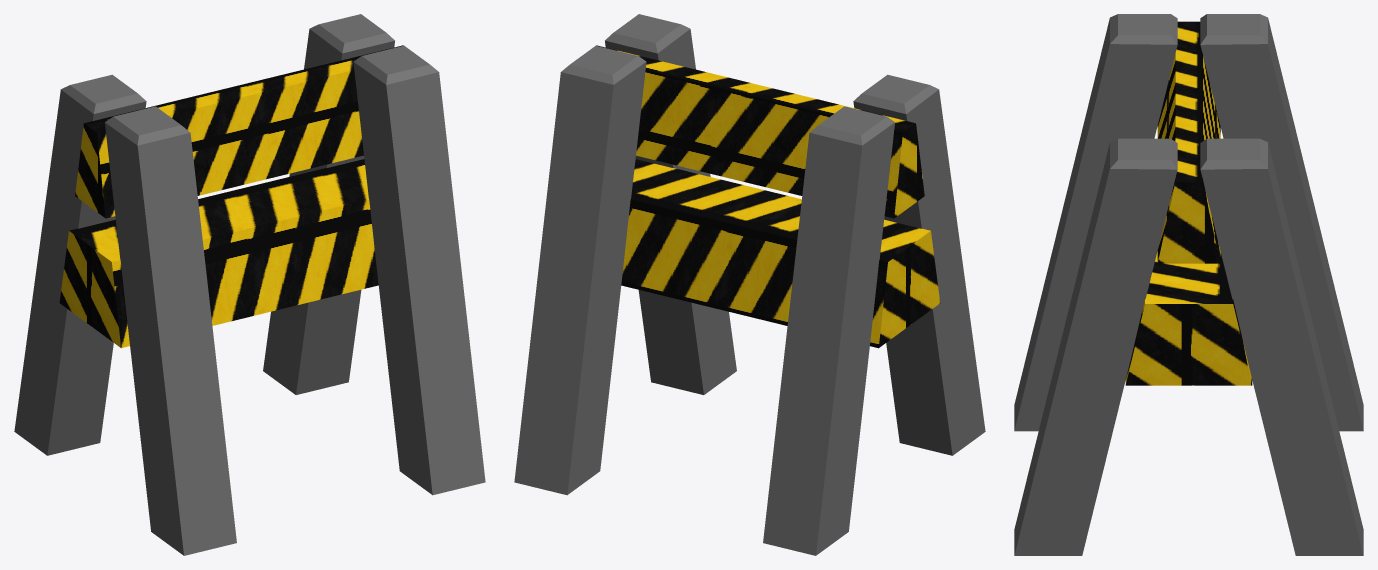
Rendered from RoadBarrier.fbx.
3 views of the same model, side by side, from view 1: azimuth 30°, elevation 25°; view 2: azimuth 150°, elevation 25°; view 3: azimuth 270°, elevation 25° (orthographic). The views are drawn at different scales.
Parts seen in each view (by area): view 1: pCube7; view 2: pCube7; view 3: pCube7.
Part boxes in pixels (x1=…): pCube7: x1=14, y1=14, x2=485, y2=555; pCube7: x1=514, y1=14, x2=985, y2=555; pCube7: x1=1014, y1=14, x2=1363, y2=555.
Size of the model in its own units: 4.22 by 4.82 by 3.88.
